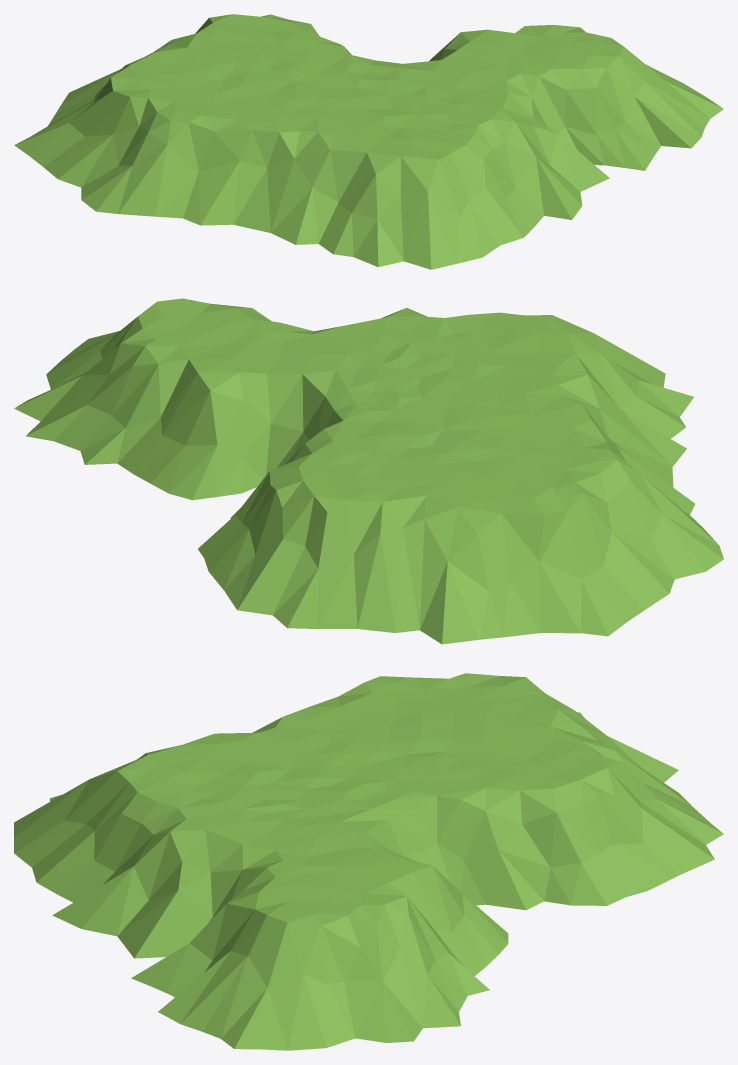
The model's file is MT_Island_L_a_07_LOD.fbx.
3 views of the same model, one above another, from view 1: azimuth 30°, elevation 25°; view 2: azimuth 150°, elevation 25°; view 3: azimuth 270°, elevation 25° (orthographic). The views are drawn at different scales.
Parts seen in each view (by area): view 1: MT_Island_L_a_07_LOD0; view 2: MT_Island_L_a_07_LOD0; view 3: MT_Island_L_a_07_LOD0.
Boxes of the visible parts, x1,y1,x2,y2 form: MT_Island_L_a_07_LOD0: [14, 14, 723, 269]; MT_Island_L_a_07_LOD0: [14, 298, 723, 644]; MT_Island_L_a_07_LOD0: [14, 673, 723, 1050].
Size of what is drawn, in the model's own units: 7810 by 885 by 6856.
